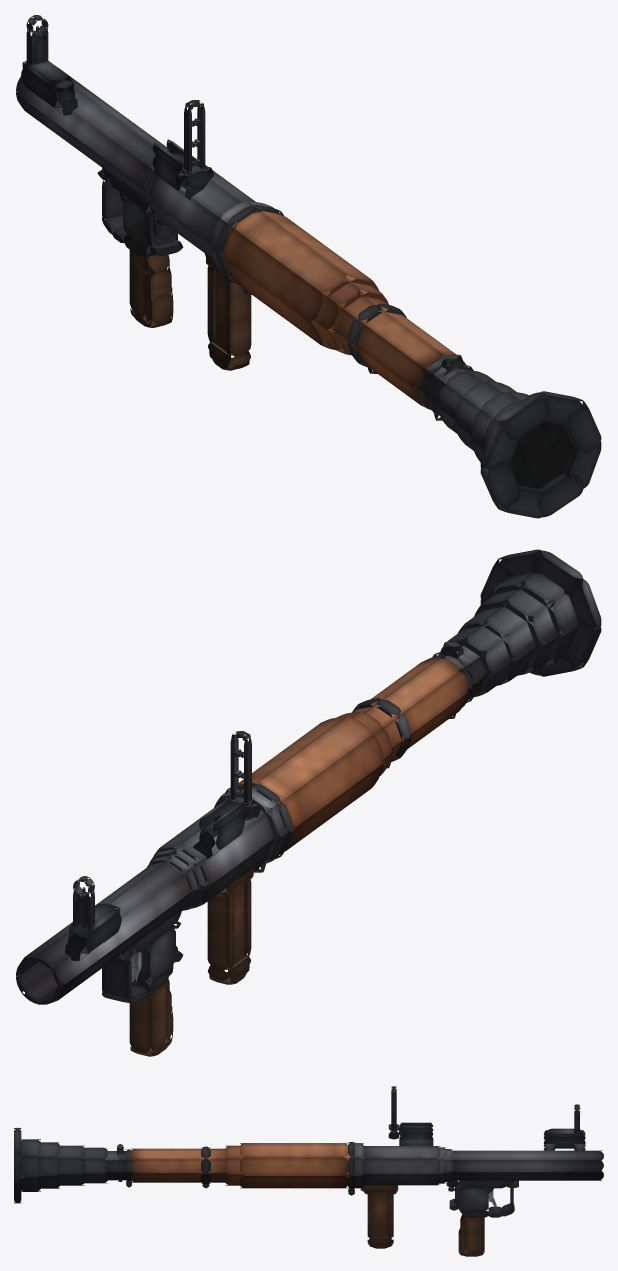
Rendered from rpg7.fbx.
3 views of the same model, one above another, from view 1: azimuth 30°, elevation 25°; view 2: azimuth 150°, elevation 25°; view 3: azimuth 270°, elevation 25° (orthographic). The views are drawn at different scales.
Parts seen in each view (by area): view 1: octagon_61, octagon_62, octagon_20, octagon_60, octagon_25, octagon_57, octagon_7, octagon_19, octagon_115, octagon_64, octagon_63, octagon_22 (+23 smaller); view 2: octagon_61, octagon_62, octagon_20, octagon_106, octagon_19, octagon_7, octagon_116, octagon_60, octagon_57, octagon_22, octagon_64, octagon_145 (+21 smaller); view 3: octagon_64, octagon_23, octagon_63, octagon_61, octagon_24, octagon_21, octagon_59, octagon_8, octagon_9, octagon_58, octagon_7, octagon_60 (+22 smaller).
Part boxes in pixels (bbox=[...]): octagon_61: bbox=[224, 229, 327, 322]; octagon_62: bbox=[235, 212, 349, 296]; octagon_20: bbox=[16, 76, 154, 186]; octagon_60: bbox=[333, 305, 440, 387]; octagon_25: bbox=[494, 399, 564, 488]; octagon_57: bbox=[337, 294, 439, 389]; octagon_7: bbox=[149, 175, 220, 242]; octagon_19: bbox=[73, 88, 155, 170]; octagon_115: bbox=[226, 278, 251, 355]; octagon_64: bbox=[224, 259, 379, 344]; octagon_63: bbox=[261, 211, 372, 349]; octagon_22: bbox=[16, 91, 146, 199]; octagon_61: bbox=[285, 735, 383, 826]; octagon_62: bbox=[261, 717, 372, 797]; octagon_20: bbox=[52, 865, 200, 986]; octagon_106: bbox=[129, 981, 166, 1052]; octagon_19: bbox=[37, 855, 194, 969]; octagon_7: bbox=[195, 814, 274, 887]; octagon_116: bbox=[207, 890, 234, 969]; octagon_60: bbox=[381, 671, 468, 747]; octagon_57: bbox=[365, 658, 459, 727]; octagon_22: bbox=[52, 885, 200, 1001]; octagon_64: bbox=[286, 763, 383, 850]; octagon_145: bbox=[135, 927, 175, 981]; octagon_64: bbox=[240, 1157, 347, 1175]; octagon_23: bbox=[444, 1160, 603, 1172]; octagon_63: bbox=[240, 1143, 347, 1157]; octagon_61: bbox=[240, 1143, 347, 1188]; octagon_24: bbox=[443, 1171, 603, 1180]; octagon_21: bbox=[443, 1151, 603, 1160]; octagon_59: bbox=[131, 1159, 227, 1173]; octagon_8: bbox=[363, 1158, 440, 1174]; octagon_9: bbox=[362, 1146, 440, 1158]; octagon_58: bbox=[131, 1149, 229, 1159]; octagon_7: bbox=[362, 1146, 440, 1185]; octagon_60: bbox=[131, 1149, 228, 1182].
Bounding box in the file's own units: 28.15 × 61.48 × 206.
1 material, 1 textured.
